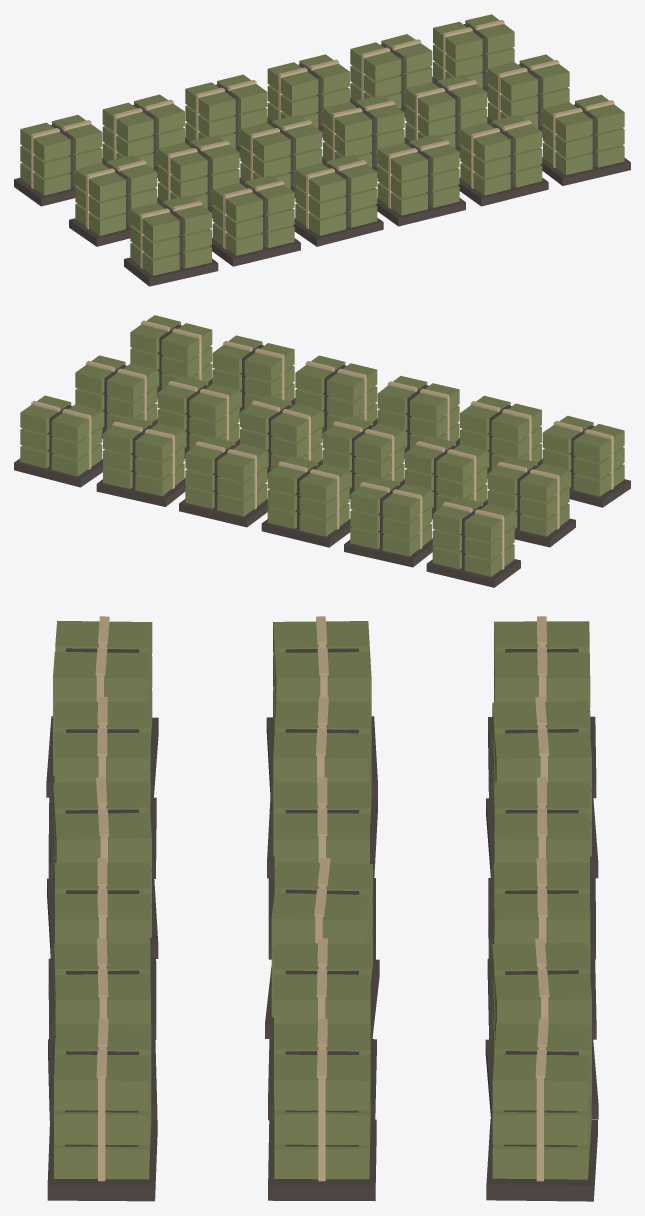
Rendered from SM_AcopioMunicion_v0_Lleno_LOD0.fbx.
3 views of the same model, one above another, from view 1: azimuth 30°, elevation 25°; view 2: azimuth 150°, elevation 25°; view 3: azimuth 270°, elevation 25° (orthographic). The views are drawn at different scales.
Visible parts, largest first — view 1: SM_acopio_carga_v0_LOD0; view 2: SM_acopio_carga_v0_LOD0; view 3: SM_acopio_carga_v0_LOD0.
Part boxes in pixels (x1,y1,x2,y2): SM_acopio_carga_v0_LOD0: [14, 14, 630, 286]; SM_acopio_carga_v0_LOD0: [14, 315, 630, 587]; SM_acopio_carga_v0_LOD0: [46, 616, 598, 1201].
Bounding box in the file's own units: 9.1 × 1.09 × 4.52.
